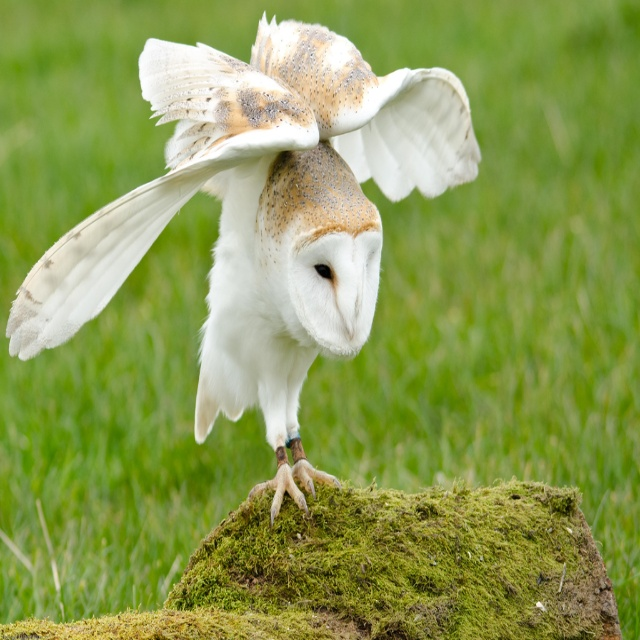Owl: (8, 10, 484, 534)
